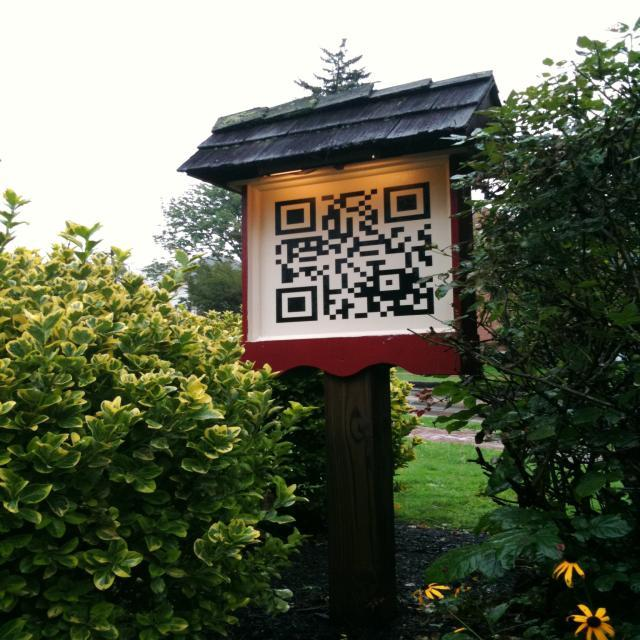qr-code: (275, 182, 434, 322)
